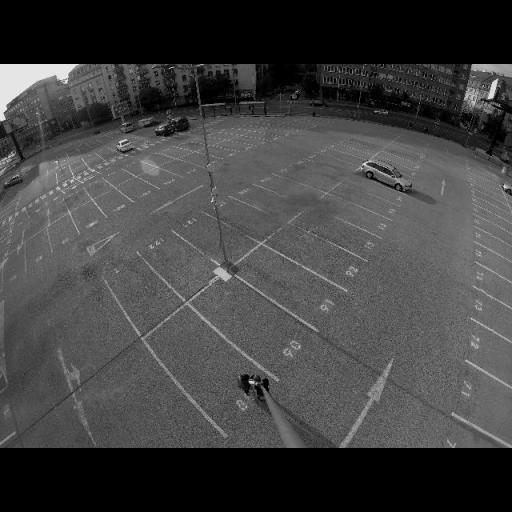busy: (363, 160, 415, 192), (4, 170, 26, 194), (114, 138, 136, 154), (169, 118, 191, 132), (155, 123, 175, 136)
free: (176, 338, 228, 382), (222, 300, 272, 340), (263, 266, 305, 297), (120, 272, 160, 304), (160, 250, 196, 276), (485, 397, 512, 431), (296, 241, 331, 266), (194, 226, 226, 248), (480, 272, 504, 299), (493, 351, 512, 378), (232, 210, 259, 228), (323, 154, 344, 176), (493, 311, 512, 335), (254, 194, 279, 211), (328, 225, 352, 242), (77, 206, 99, 224), (107, 170, 130, 186), (51, 225, 72, 241), (84, 183, 112, 195), (102, 195, 124, 210), (62, 194, 88, 206), (277, 182, 299, 196), (484, 253, 503, 269), (342, 209, 362, 223), (124, 182, 144, 196), (131, 160, 147, 176), (146, 172, 166, 184), (486, 235, 502, 250), (366, 182, 383, 196), (150, 152, 166, 166), (302, 173, 322, 184), (356, 195, 374, 207), (345, 149, 356, 166), (210, 147, 228, 157), (188, 154, 206, 164), (170, 162, 187, 172), (487, 223, 500, 236), (186, 142, 200, 152), (227, 143, 243, 151), (89, 157, 103, 166), (101, 149, 115, 158), (135, 140, 147, 148), (171, 150, 187, 156)
